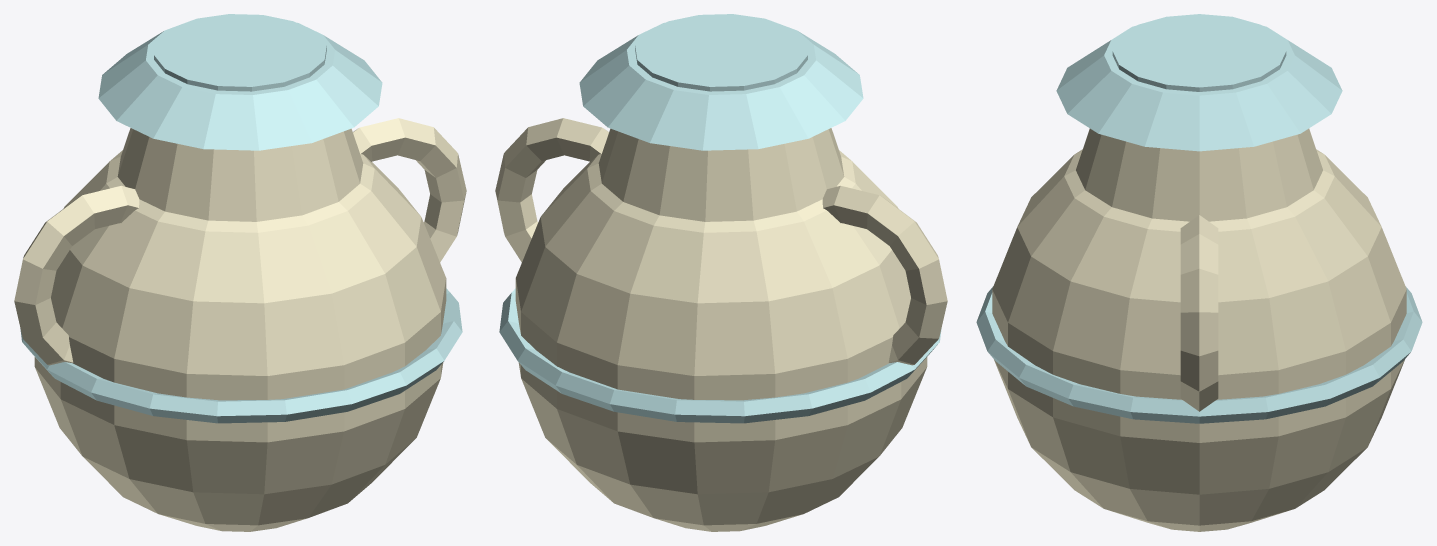
Rendered from cantaro_miraje.glb.
3 views of the same model, side by side, from view 1: azimuth 30°, elevation 25°; view 2: azimuth 150°, elevation 25°; view 3: azimuth 270°, elevation 25° (orthographic).
Parts seen in each view (by area): view 1: cantaro_miraje; view 2: cantaro_miraje; view 3: cantaro_miraje.
Boxes of the visible parts, x1=… form: cantaro_miraje: x1=14, y1=14, x2=466, y2=531; cantaro_miraje: x1=495, y1=14, x2=947, y2=531; cantaro_miraje: x1=976, y1=14, x2=1422, y2=531.
Bounding box in the file's own units: 1.86 × 1.82 × 1.59.
